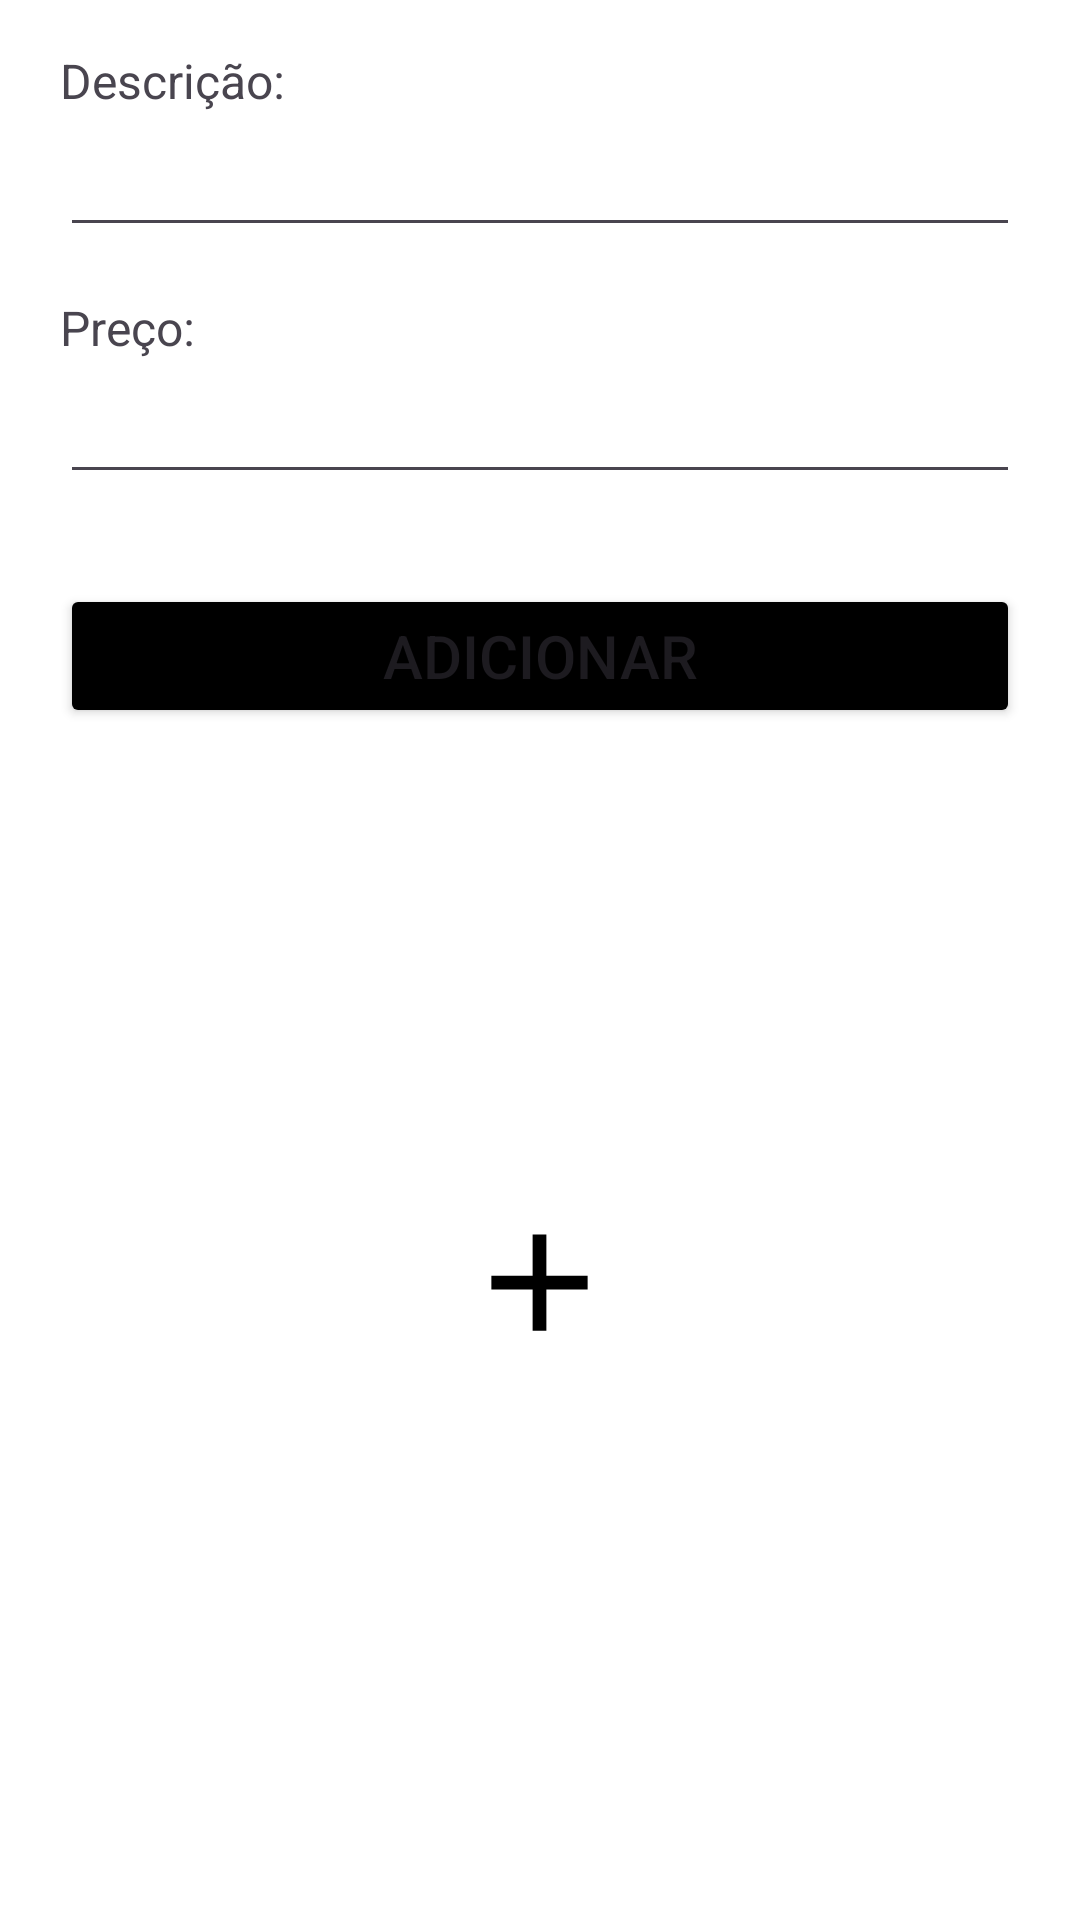

Where icons sit on this 1080px×1920px app screen, as (x1, y1, x2, y2):
add: (491, 1234, 588, 1331)
